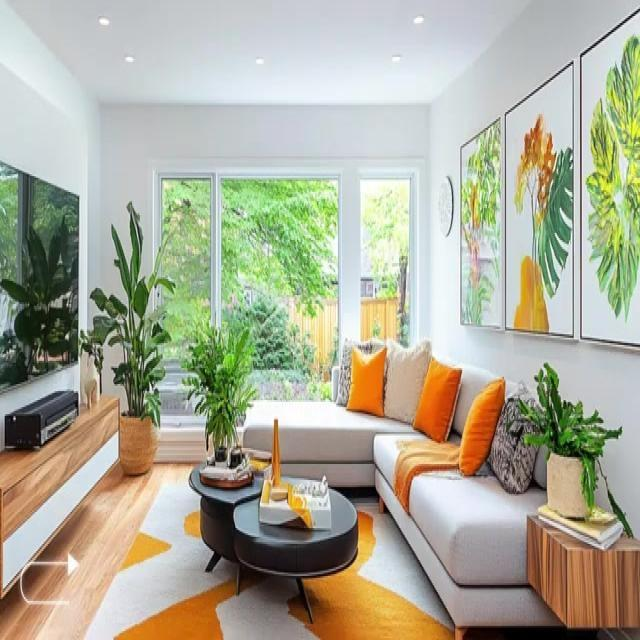obstacle: (237, 336, 563, 638), (0, 394, 120, 600), (232, 478, 358, 624)
